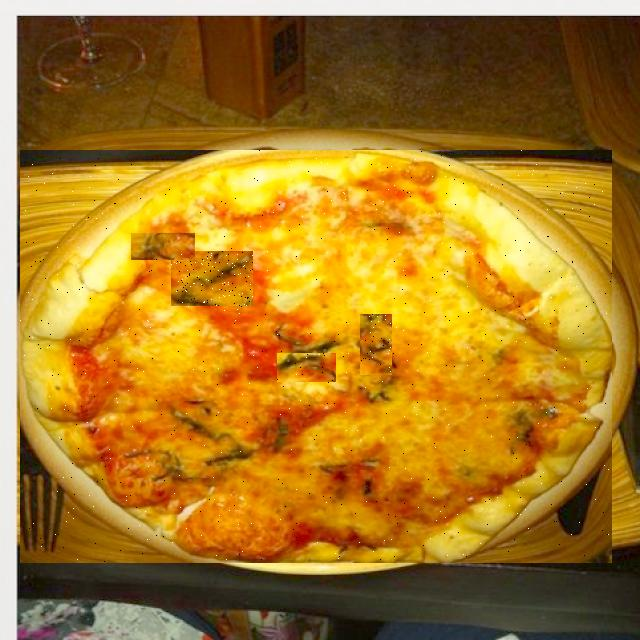Basil: (171, 252, 253, 308), (360, 314, 392, 375), (277, 354, 336, 384), (131, 233, 195, 260)
Pizza: (20, 150, 612, 563)
